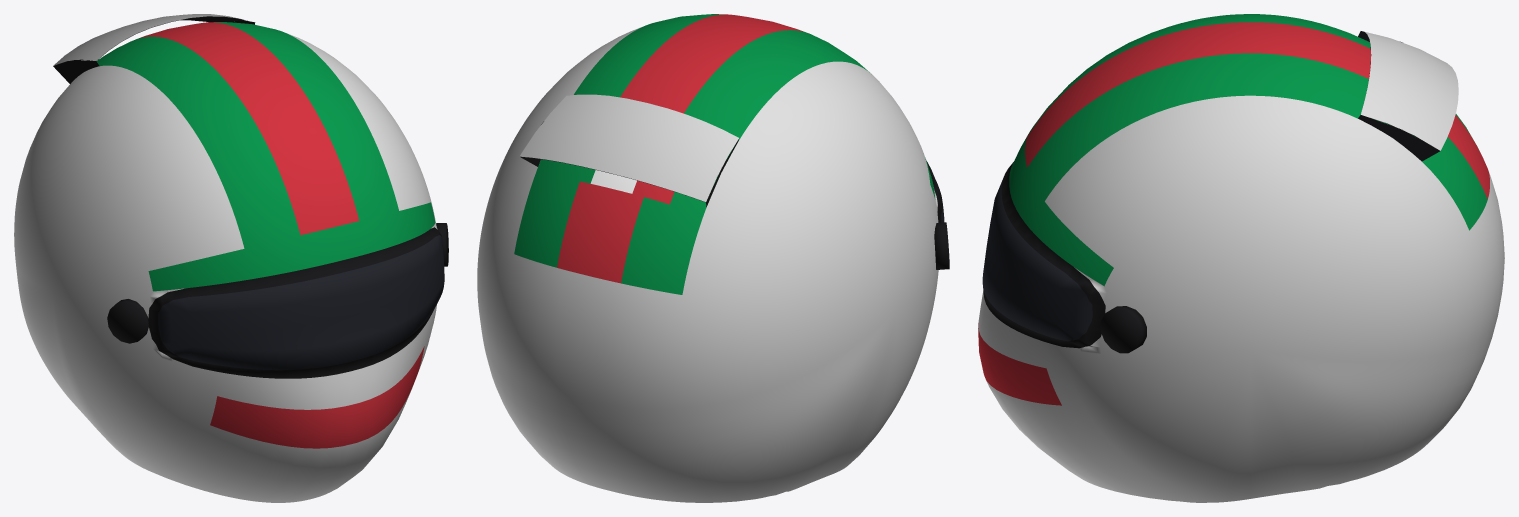
The model's file is ANT.glb.
3 renders of one model, left to right at view 1: azimuth 30°, elevation 25°; view 2: azimuth 150°, elevation 25°; view 3: azimuth 270°, elevation 25°, orthographic. The views are drawn at different scales.
Visible parts, largest first — view 1: helmet; view 2: helmet; view 3: helmet.
Part boxes in pixels (<box>): helmet: <box>14,14,448,502</box>; helmet: <box>477,14,949,502</box>; helmet: <box>978,14,1504,502</box>.
Bounding box in the file's own units: 0.256 × 0.2772 × 0.3111.
